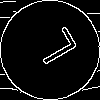L: (25, 25, 79, 72)
